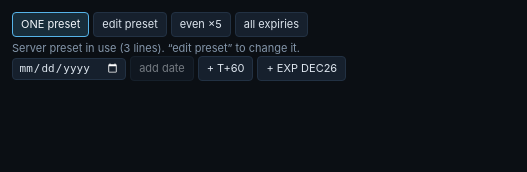
DateEditor › moves T+60 off a weekend to the nearest trading day and says so
This screenshot has width=527, height=172.
Click the button "+ T+60" at (226, 69), box left=198, top=56, right=254, bottom=81
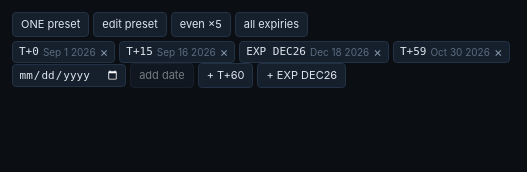
Now the text "T+59" is shown, box left=400, top=44, right=426, bottom=60
